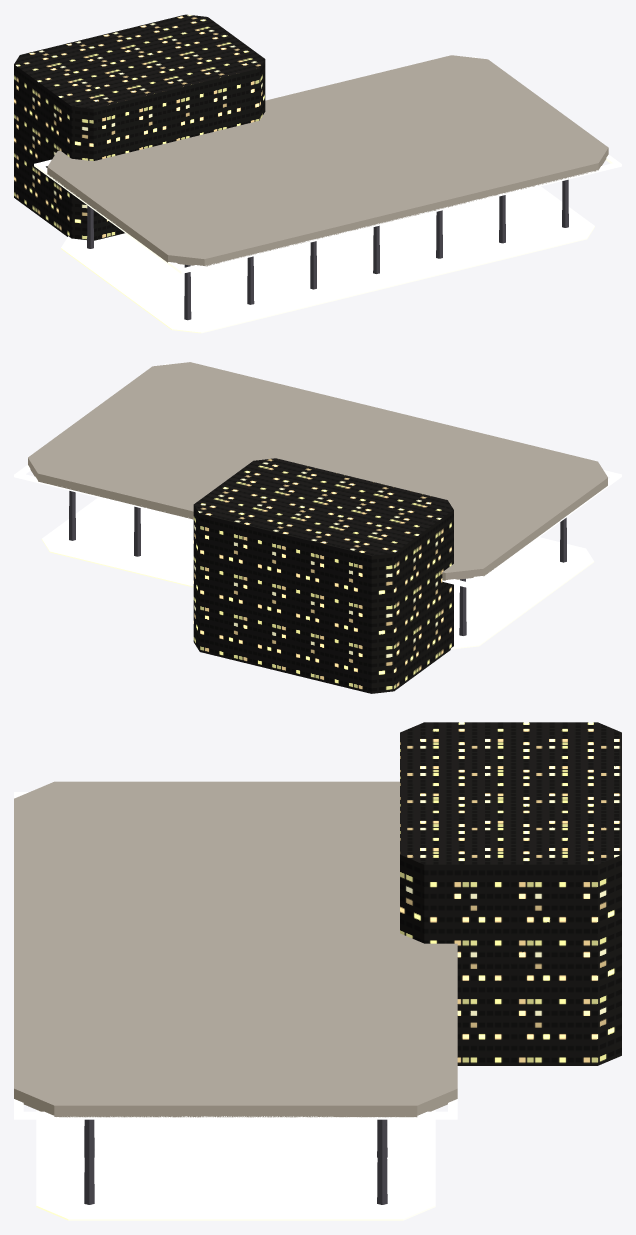
Rendered from sultan-iskandar-ciq.glb.
3 renders of one model, top to bottom at view 1: azimuth 30°, elevation 25°; view 2: azimuth 150°, elevation 25°; view 3: azimuth 270°, elevation 25°, orthographic. The views are drawn at different scales.
Visible parts, largest first — view 1: canopy, hall, apron, columns, canopy-rim; view 2: canopy, hall, apron, columns, canopy-rim; view 3: canopy, hall, apron, canopy-rim, columns.
Boxes of the visible parts, x1,y1,x2,y2 form: canopy: [47, 55, 608, 266]; hall: [14, 14, 265, 240]; apron: [61, 186, 594, 333]; columns: [87, 179, 568, 320]; canopy-rim: [34, 56, 621, 273]; canopy: [28, 362, 607, 580]; hall: [193, 458, 453, 693]; apron: [41, 498, 594, 649]; columns: [69, 491, 566, 635]; canopy-rim: [14, 363, 621, 588]; canopy: [14, 781, 457, 1117]; hall: [400, 722, 621, 1065]; apron: [36, 1109, 435, 1220]; canopy-rim: [14, 792, 457, 1119]; columns: [84, 1119, 387, 1204].
Bounding box in the file's own units: 190 × 55 × 151.
Materials: 5 (1 with a texture image).
